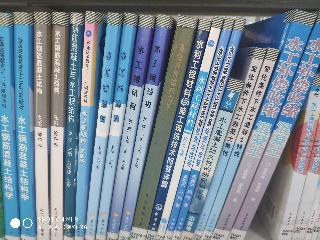book-spine: (206, 9, 316, 240), (226, 19, 320, 240), (171, 18, 244, 240), (165, 19, 233, 240), (156, 17, 223, 240), (200, 49, 278, 240), (128, 20, 195, 240), (190, 49, 265, 240), (144, 22, 209, 240), (118, 18, 169, 239), (104, 16, 152, 239), (179, 81, 241, 240), (95, 15, 136, 240), (83, 14, 120, 239), (277, 76, 320, 240), (73, 13, 95, 238), (14, 15, 34, 239), (62, 14, 81, 238), (49, 14, 66, 239), (0, 15, 17, 239), (34, 15, 49, 239)
